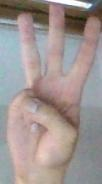W: (2, 0, 102, 184)
